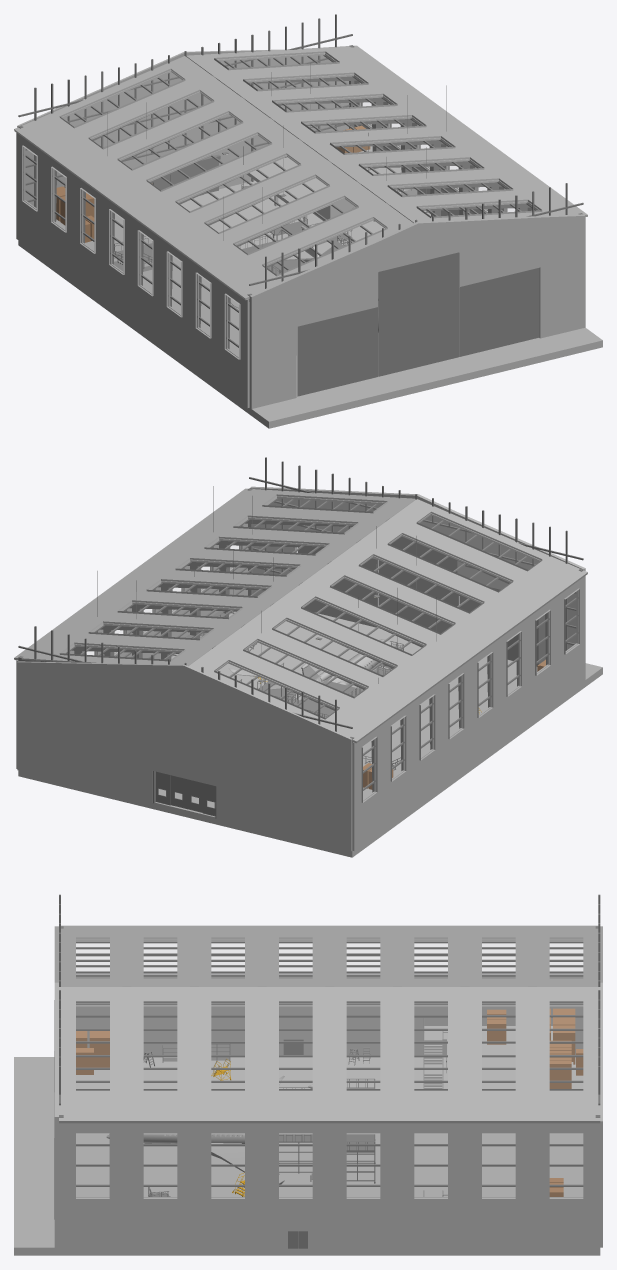
File: Storage.glb
3 views of the same model, one above another, from view 1: azimuth 30°, elevation 25°; view 2: azimuth 150°, elevation 25°; view 3: azimuth 270°, elevation 25° (orthographic). The views are drawn at different scales.
Visible parts, largest first — view 1: SM_WallFront_382, SM_Floor_376, SM_WallBack_396, SM_GateFront_A_385, SM_GateFront_B2, SM_GateFront_B_388, SM_Roof3, SM_Roof6, SM_Roof7, SM_Roof4, SM_Roof5, SM_Roof2 (+22 smaller); view 2: SM_WallBack_396, SM_Floor_376, SM_WallFront_382, SM_Roof2, SM_Roof6, SM_Roof3, SM_Roof7, SM_Roof5, SM_Roof4, SM_Roof_329, SM_Roof8, SM_Roof17 (+20 smaller); view 3: SM_Floor_376, SM_WallSide10, SM_WallSide13, SM_WallSide16, SM_WallSide9, SM_WallSide11, SM_WallSide14, SM_WallSide15, SM_Roof17, SM_Roof20, SM_Roof18, SM_Roof19 (+42 smaller).
Part boxes in pixels (left/top/right/bottom): SM_WallFront_382: left=247, top=183, right=585, bottom=408; SM_Floor_376: left=18, top=180, right=602, bottom=428; SM_WallBack_396: left=17, top=14, right=354, bottom=207; SM_GateFront_A_385: left=378, top=252, right=458, bottom=376; SM_GateFront_B2: left=297, top=307, right=377, bottom=396; SM_GateFront_B_388: left=459, top=267, right=539, bottom=356; SM_Roof3: left=158, top=162, right=358, bottom=257; SM_Roof6: left=72, top=98, right=271, bottom=194; SM_Roof7: left=43, top=77, right=242, bottom=172; SM_Roof4: left=129, top=140, right=329, bottom=236; SM_Roof5: left=101, top=119, right=300, bottom=215; SM_Roof2: left=187, top=183, right=386, bottom=278; SM_WallBack_396: left=17, top=626, right=353, bottom=851; SM_Floor_376: left=18, top=611, right=602, bottom=857; SM_WallFront_382: left=248, top=457, right=585, bottom=664; SM_Roof2: left=359, top=520, right=558, bottom=615; SM_Roof6: left=244, top=605, right=443, bottom=700; SM_Roof3: left=330, top=541, right=530, bottom=637; SM_Roof7: left=215, top=626, right=414, bottom=721; SM_Roof5: left=273, top=583, right=472, bottom=679; SM_Roof4: left=302, top=562, right=501, bottom=658; SM_Roof_329: left=388, top=499, right=587, bottom=594; SM_Roof8: left=188, top=647, right=385, bottom=743; SM_Roof17: left=188, top=509, right=386, bottom=540; SM_Floor_376: left=14, top=1057, right=600, bottom=1255; SM_WallSide10: left=126, top=1123, right=194, bottom=1248; SM_WallSide13: left=329, top=1123, right=397, bottom=1248; SM_WallSide16: left=532, top=1123, right=600, bottom=1248; SM_WallSide9: left=59, top=1123, right=126, bottom=1248; SM_WallSide11: left=194, top=1123, right=261, bottom=1248; SM_WallSide14: left=397, top=1123, right=464, bottom=1248; SM_WallSide15: left=465, top=1123, right=532, bottom=1248; SM_Roof17: left=126, top=986, right=194, bottom=1123; SM_Roof20: left=329, top=986, right=397, bottom=1123; SM_Roof18: left=194, top=986, right=261, bottom=1123; SM_Roof19: left=262, top=986, right=329, bottom=1123.
Size of the model in its own units: 51.31 by 24.08 by 65.3.
